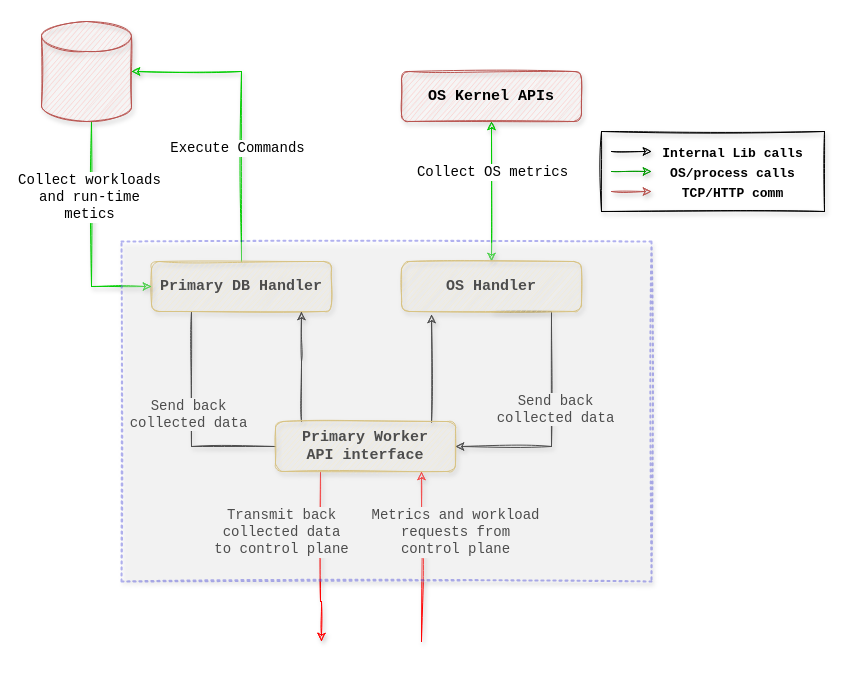
Image size: 848x674. Some labels were removed from this diagram. Here are the shapes that lost their labels. From the top down, the centre of each, then its label:
At [87,72]: "PRIMARY DATABASE".
At [387,412]: "Execute commands sent via Control Plane".
